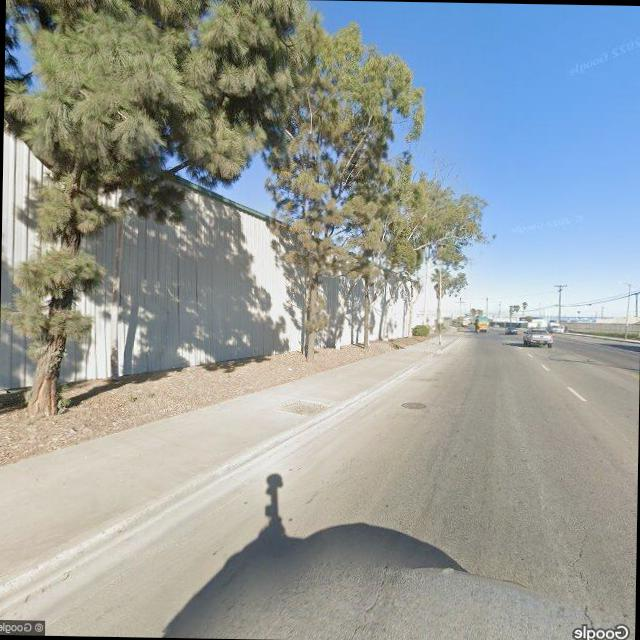pothole: (340, 559, 395, 640), (566, 515, 604, 626)
